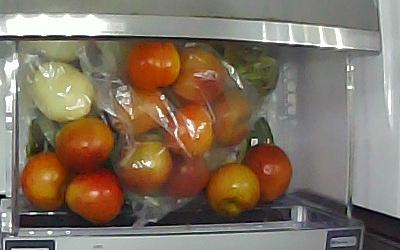prune: (241, 143, 294, 204), (54, 117, 115, 170), (68, 169, 124, 223), (207, 163, 261, 218), (18, 151, 67, 211), (126, 40, 181, 91)
prune_vinyl: (173, 46, 226, 104), (120, 138, 173, 193), (112, 86, 170, 136), (165, 104, 214, 157), (211, 93, 254, 149), (161, 153, 211, 197)
